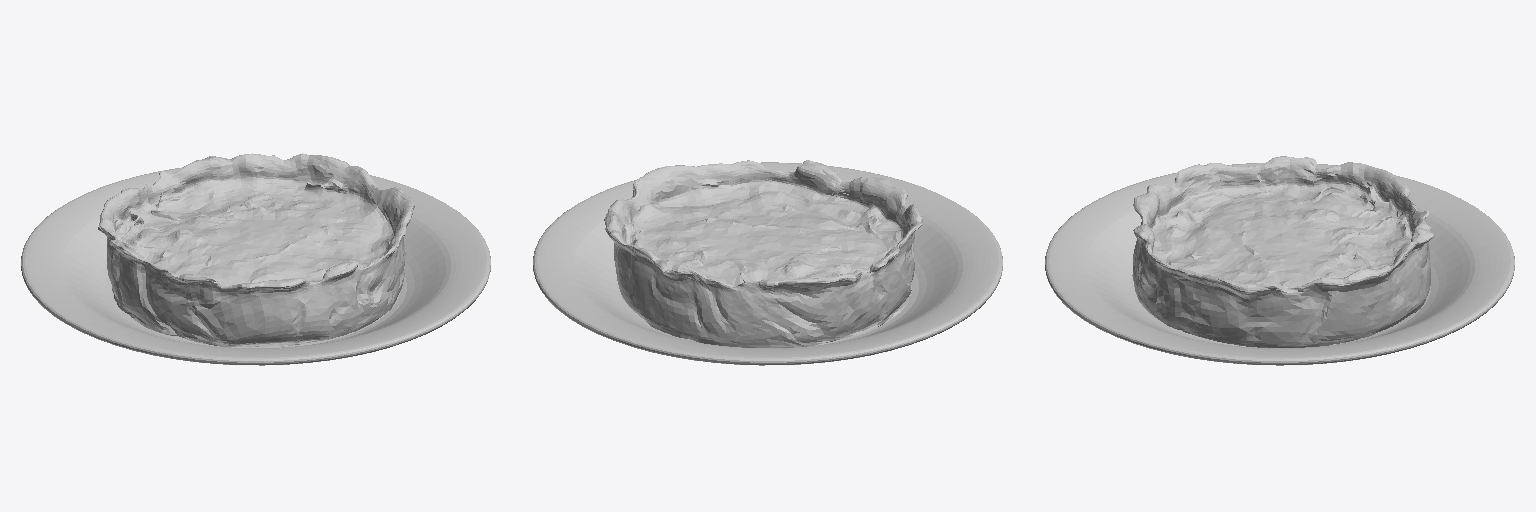
Rendered from End_Kake Veg Quice Dish A1.obj.
3 views of the same model, side by side, from view 1: azimuth 30°, elevation 25°; view 2: azimuth 150°, elevation 25°; view 3: azimuth 270°, elevation 25° (orthographic).
Parts seen in each view (by area): view 1: LR01, Line001; view 2: LR01, Line001; view 3: LR01, Line001.
Part boxes in pixels (x1,y1,x2,y2): LR01: (98,153,414,346); Line001: (21,167,490,365); LR01: (604,160,922,347); Line001: (533,162,1002,365); LR01: (1132,156,1434,347); Line001: (1045,163,1514,365).
Size of the model in its own units: 41.02 by 7.96 by 41.02.